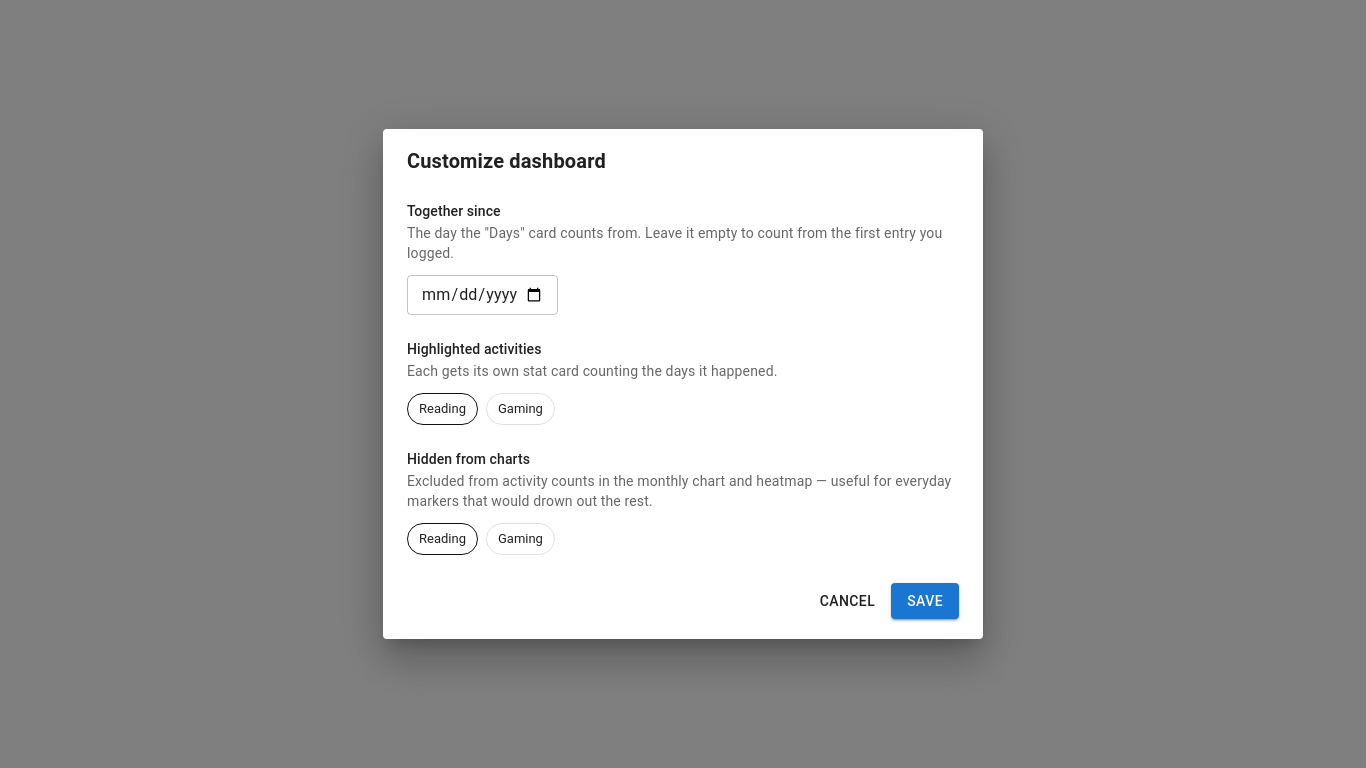
Test: shows an error message and re-enables the form when saving fails
Click the button "Save". click: (925, 601)
box: 891,583 -> 959,619
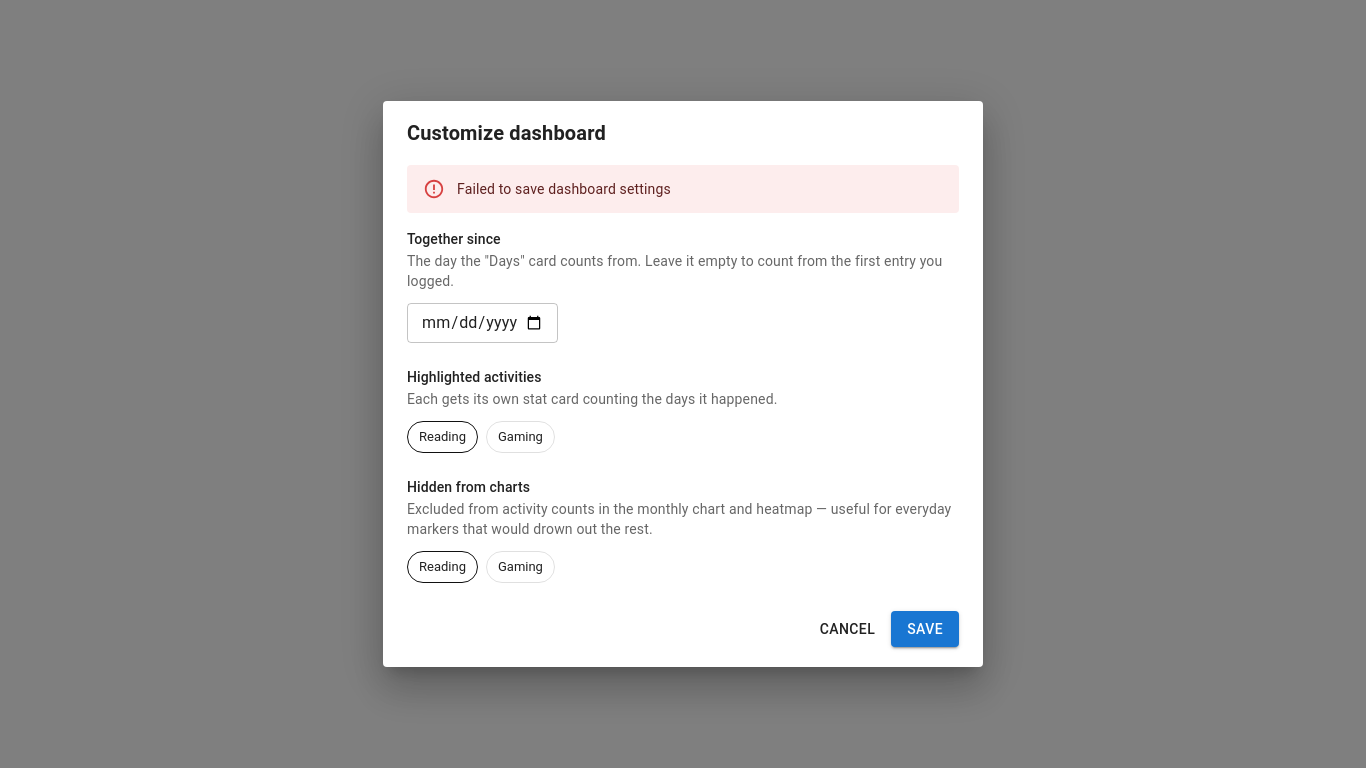
expect the button "Save" is enabled: met, box 891,611 -> 959,647
expect the text "Failed to save dashboard settings" is shown: met, box 457,181 -> 671,197
